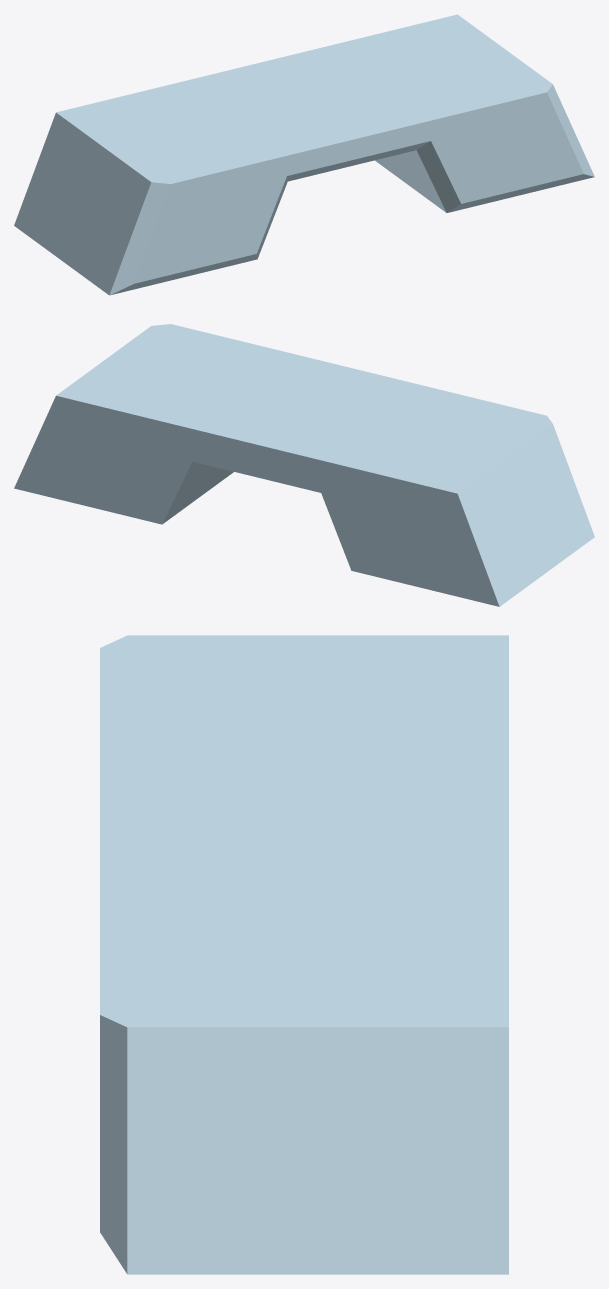
File: STAM - A0.gltf
3 views of the same model, one above another, from view 1: azimuth 30°, elevation 25°; view 2: azimuth 150°, elevation 25°; view 3: azimuth 270°, elevation 25° (orthographic). The views are drawn at different scales.
Parts seen in each view (by area): view 1: A0; view 2: A0; view 3: A0.
Part boxes in pixels (x1,y1,x2,y2): A0: [14, 14, 594, 295]; A0: [14, 324, 594, 606]; A0: [100, 635, 508, 1274].
Bounding box in the file's own units: 0.0412 × 0.00835 × 0.015.
